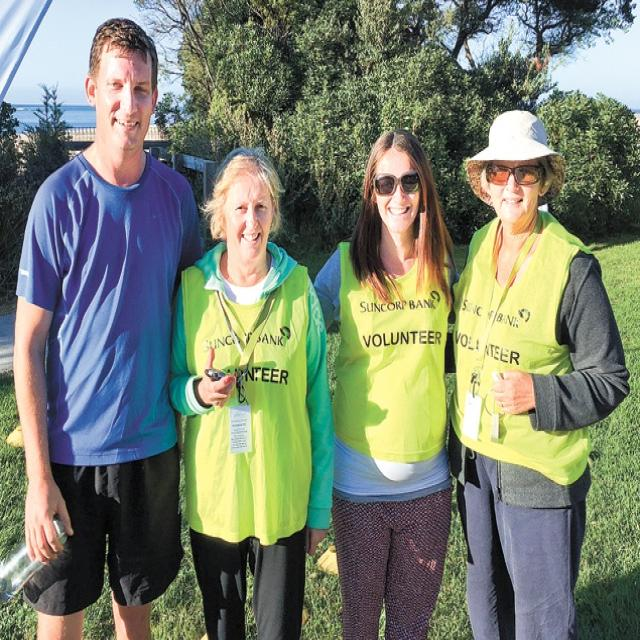body: (0, 12, 208, 639), (444, 108, 632, 640), (164, 142, 340, 638), (308, 127, 462, 640)
